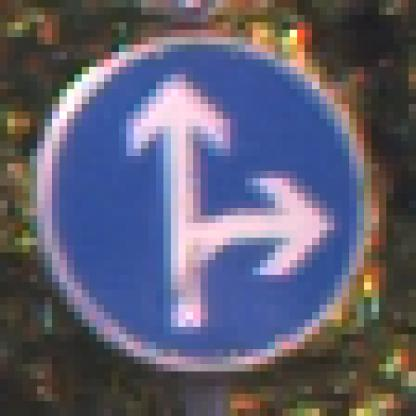Straight or Right: (38, 45, 373, 380)
